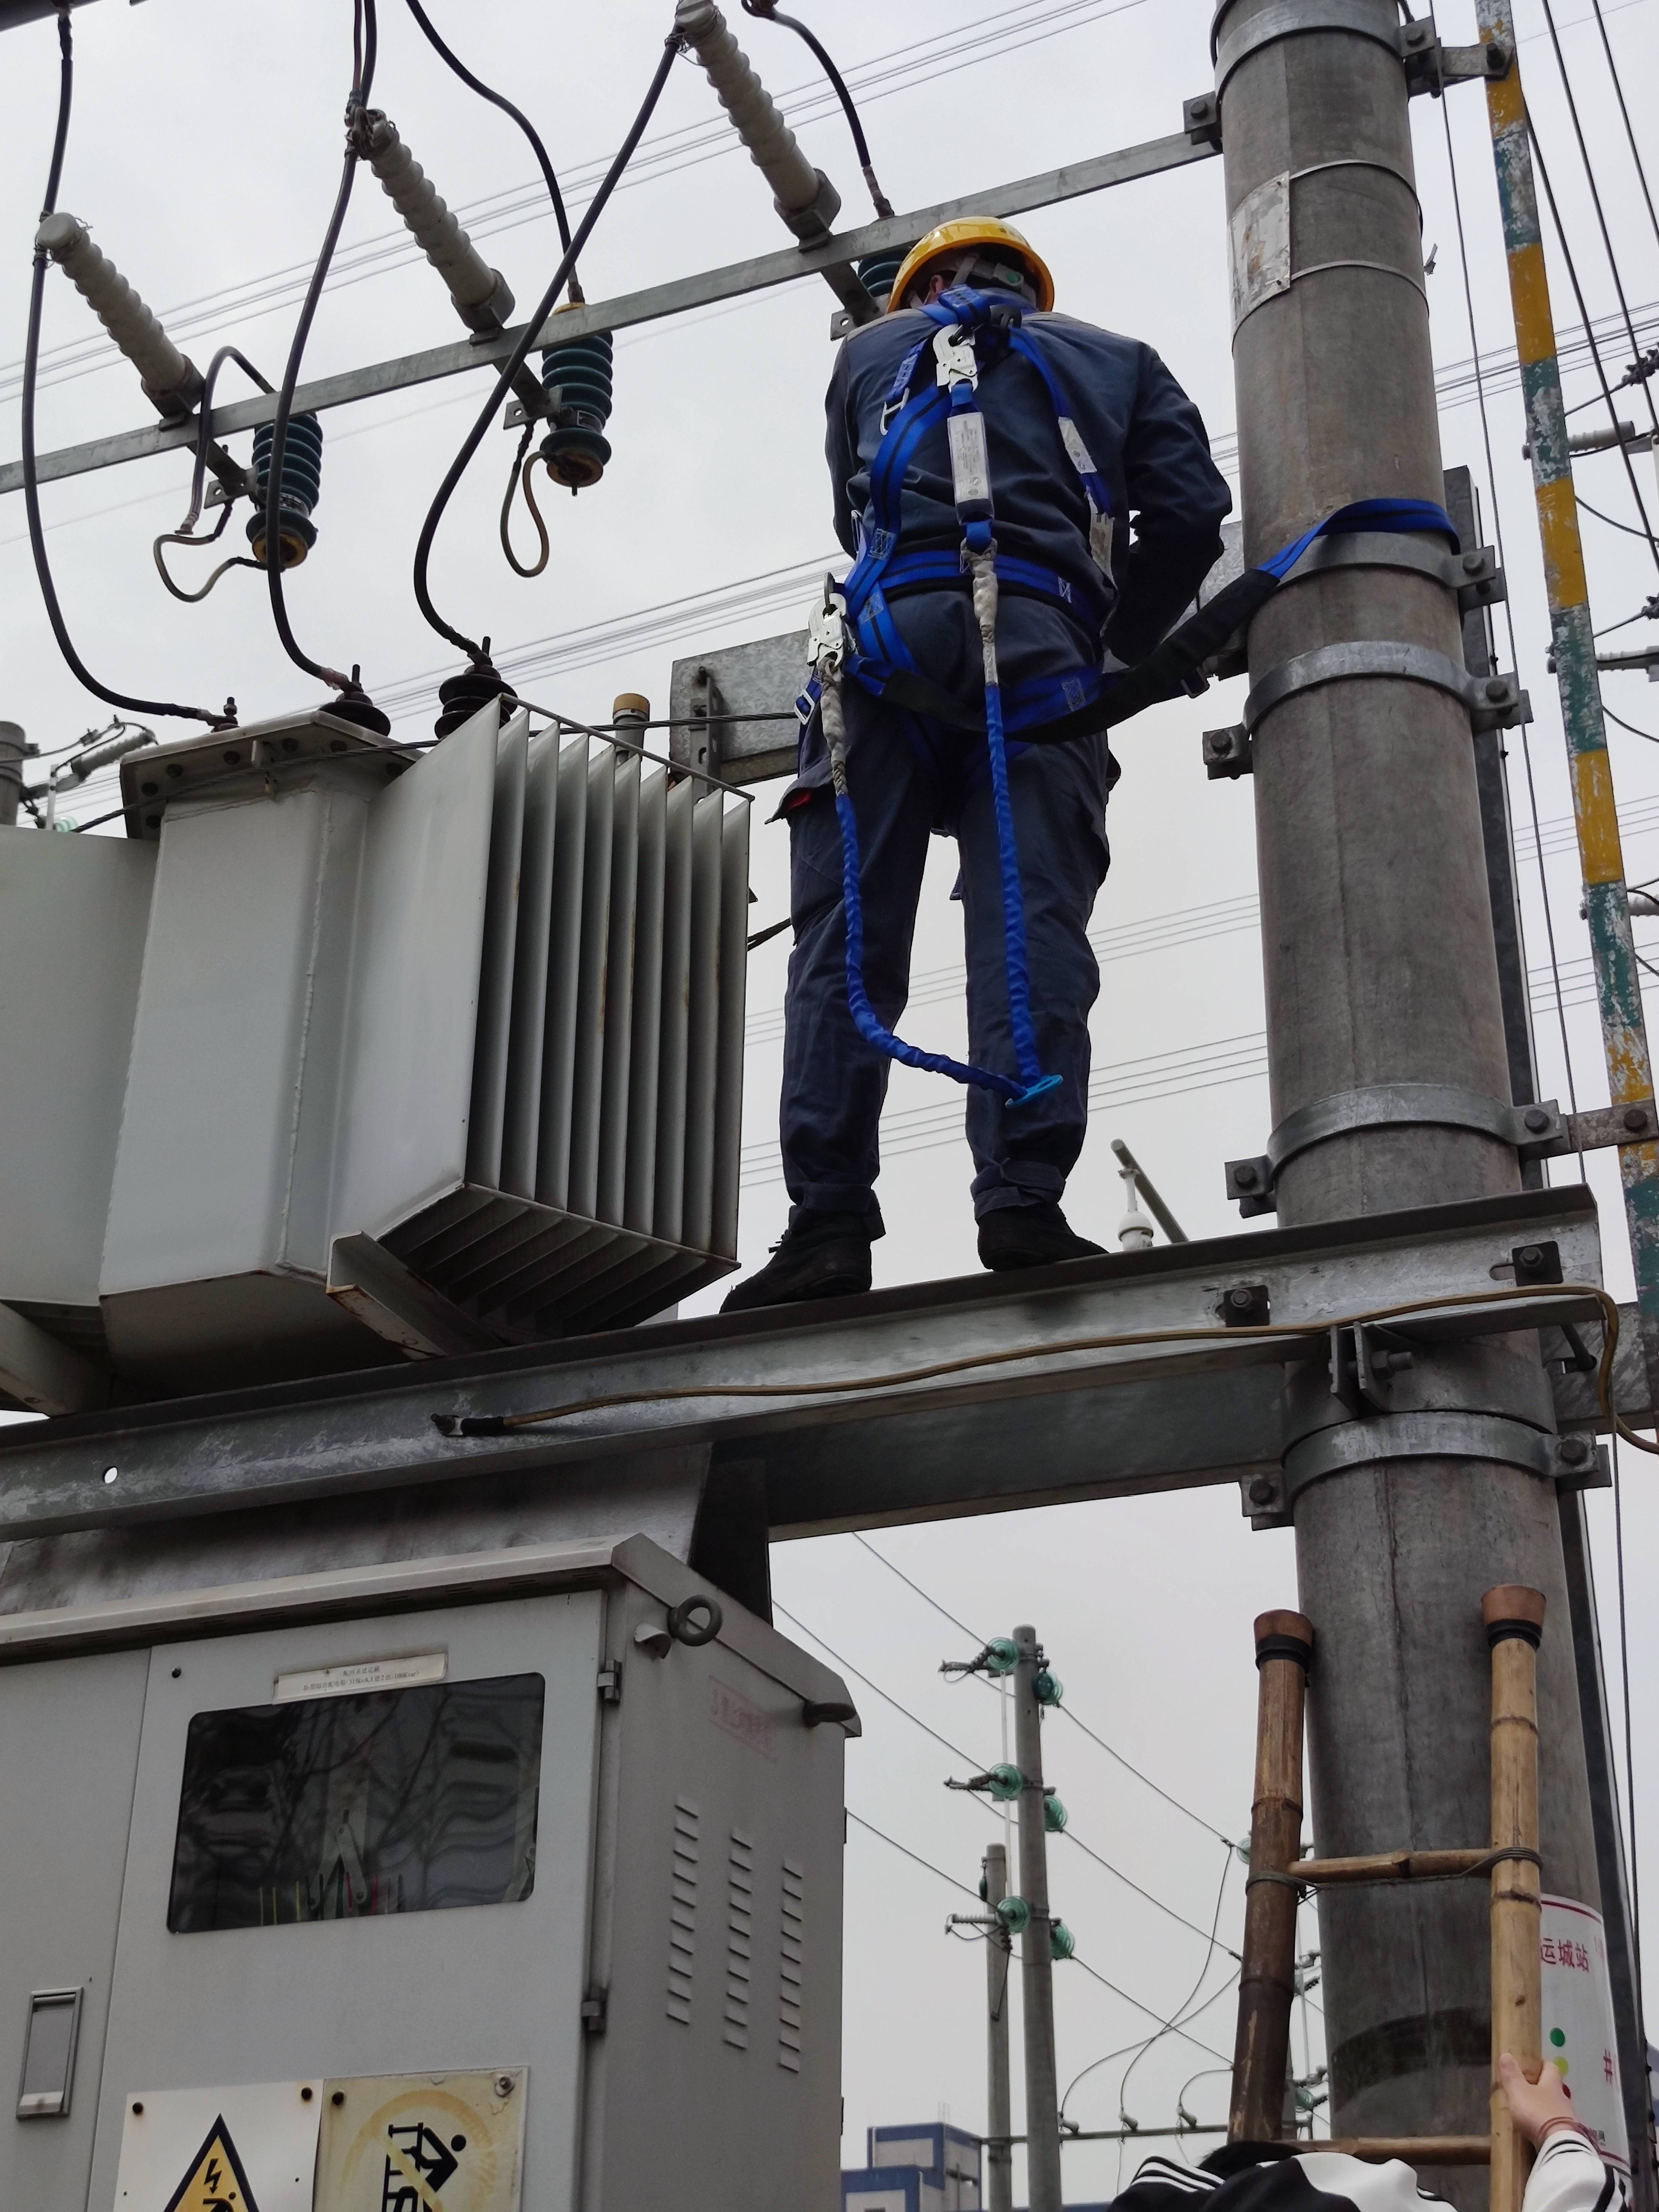downsuit: (758, 594, 1117, 1217)
upsuit: (816, 305, 1199, 582)
